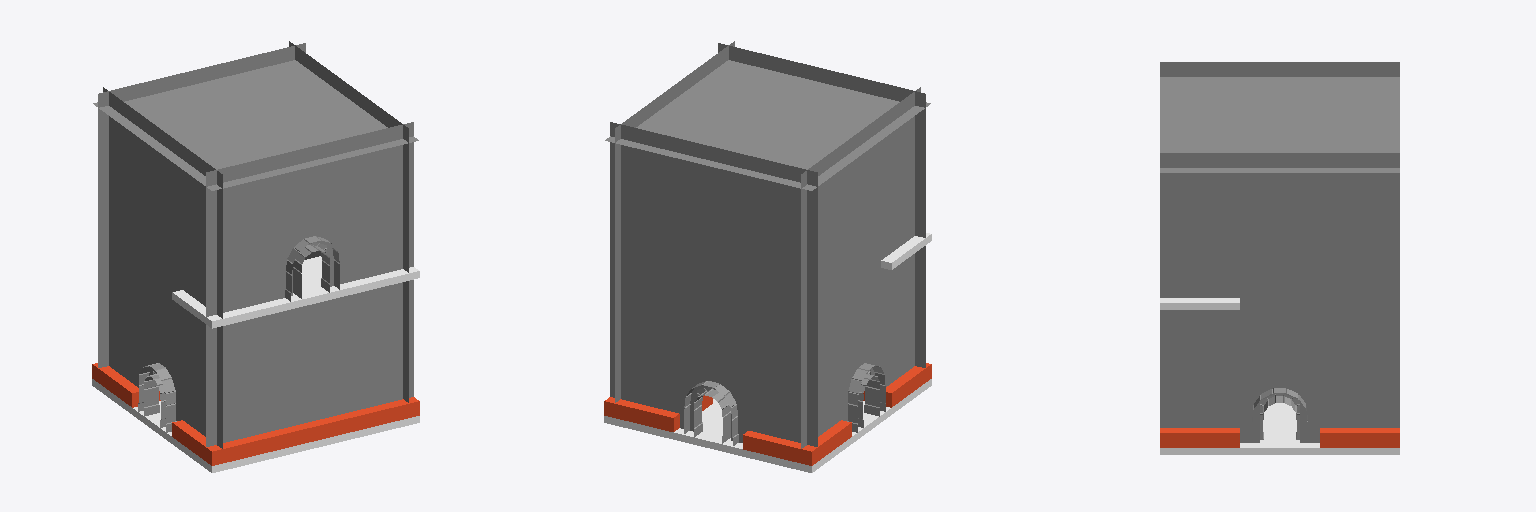
Rendered from fallT.obj.
The picture shows the model from 3 angles: view 1: azimuth 30°, elevation 25°; view 2: azimuth 150°, elevation 25°; view 3: azimuth 270°, elevation 25°; orthographic projection.
Parts seen in each view (by area): view 1: struct_wall_main_half_6, struct_ceiling_1, struct_wall_main_half_2, struct_wall_main_half_27, block_default_0, open_block_5, struct_wall_main_half_9, struct_wall_main_half_25, struct_wall_main_half_26, struct_wall_main_half_5, struct_door_5, struct_wall_main_half_4 (+6 smaller); view 2: struct_wall_main_half_9, struct_ceiling_1, struct_wall_main_half_2, block_default_0, struct_door_2, struct_wall_main_half_4, struct_wall_main_half_5, struct_wall_main_half_1, struct_wall_main_half_0, struct_wall_main_half_27, struct_door_6, struct_wall_main_half_12 (+6 smaller); view 3: struct_wall_main_half_3, struct_ceiling_1, struct_wall_main_half_6, struct_wall_main_half_7, struct_wall_main_half_11, struct_door_7, block_default_0, struct_wall_main_half_2, open_block_4, open_block_5.
Boxes of the visible parts, x1=… form: struct_wall_main_half_6: x1=206, y1=251, x2=413, y2=446; struct_ceiling_1: x1=93, y1=60, x2=418, y2=190; struct_wall_main_half_2: x1=103, y1=87, x2=222, y2=318; struct_wall_main_half_27: x1=206, y1=122, x2=413, y2=244; block_default_0: x1=92, y1=256, x2=419, y2=472; open_block_5: x1=172, y1=397, x2=419, y2=465; struct_wall_main_half_9: x1=98, y1=43, x2=305, y2=310; struct_wall_main_half_25: x1=344, y1=194, x2=413, y2=282; struct_wall_main_half_26: x1=206, y1=228, x2=274, y2=316; struct_wall_main_half_5: x1=109, y1=236, x2=142, y2=387; struct_door_5: x1=275, y1=211, x2=343, y2=301; struct_wall_main_half_4: x1=183, y1=308, x2=222, y2=448; struct_wall_main_half_9: x1=610, y1=122, x2=817, y2=388; struct_ceiling_1: x1=605, y1=60, x2=930, y2=190; struct_wall_main_half_2: x1=801, y1=87, x2=920, y2=318; block_default_0: x1=604, y1=233, x2=931, y2=472; struct_door_2: x1=680, y1=356, x2=748, y2=445; struct_wall_main_half_4: x1=881, y1=254, x2=914, y2=386; struct_wall_main_half_5: x1=801, y1=290, x2=840, y2=448; struct_wall_main_half_1: x1=610, y1=339, x2=679, y2=413; struct_wall_main_half_0: x1=749, y1=373, x2=817, y2=446; struct_wall_main_half_27: x1=718, y1=43, x2=925, y2=165; struct_door_6: x1=841, y1=333, x2=885, y2=432; struct_wall_main_half_12: x1=841, y1=261, x2=880, y2=361; struct_wall_main_half_3: x1=1160, y1=153, x2=1399, y2=297; struct_ceiling_1: x1=1160, y1=77, x2=1399, y2=172; struct_wall_main_half_6: x1=1320, y1=298, x2=1399, y2=427; struct_wall_main_half_7: x1=1160, y1=310, x2=1239, y2=427; struct_wall_main_half_11: x1=1240, y1=298, x2=1319, y2=369; struct_door_7: x1=1240, y1=370, x2=1319, y2=442; block_default_0: x1=1160, y1=298, x2=1399, y2=454; struct_wall_main_half_2: x1=1160, y1=62, x2=1399, y2=76; open_block_4: x1=1320, y1=428, x2=1399, y2=447; open_block_5: x1=1160, y1=428, x2=1239, y2=447.
Size of the model in its own units: 3 by 4.1 by 3.